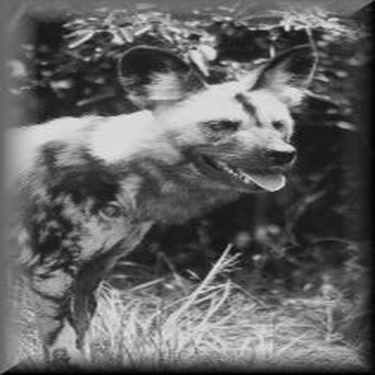dog: (1, 40, 328, 371)
